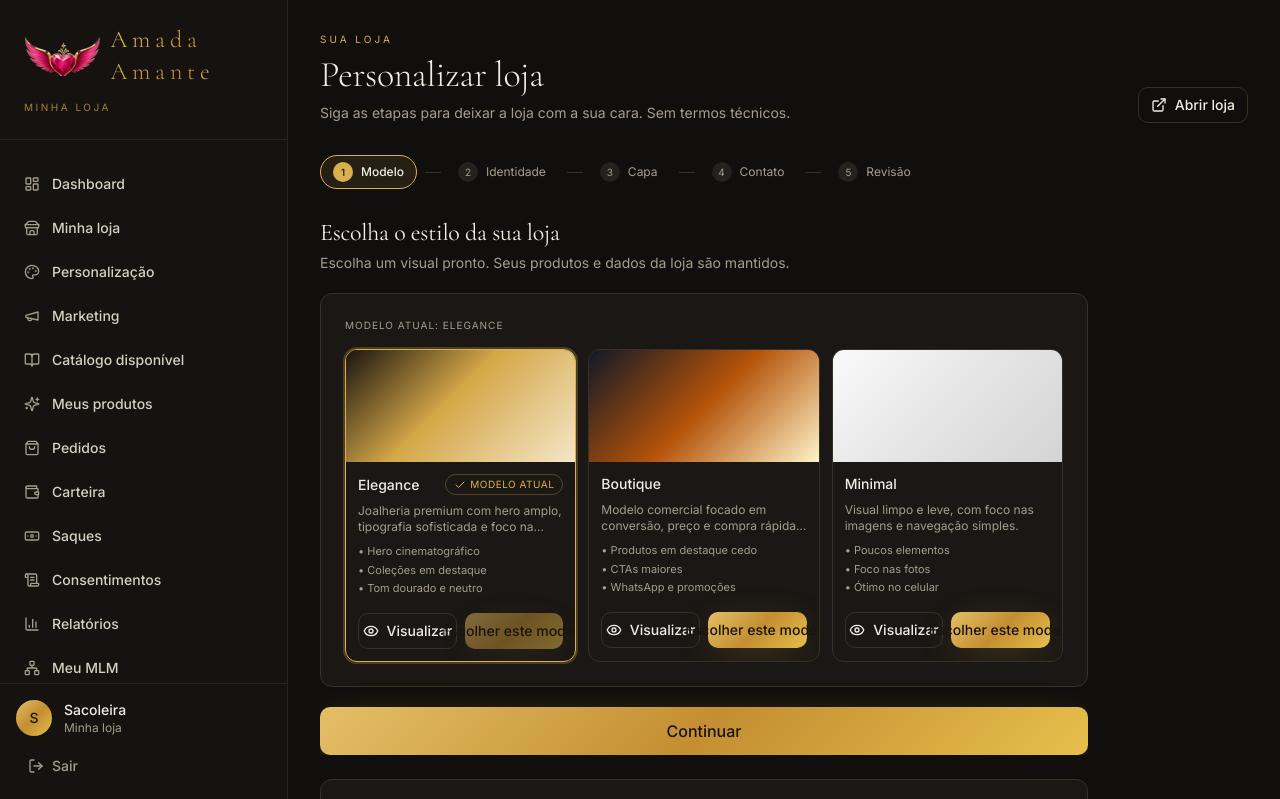
Scenario: customization wizard › edita WhatsApp e Instagram
Click the button with test id "customization-continue" at [704, 730], box [320,706,1088,754]
(page scrolled)
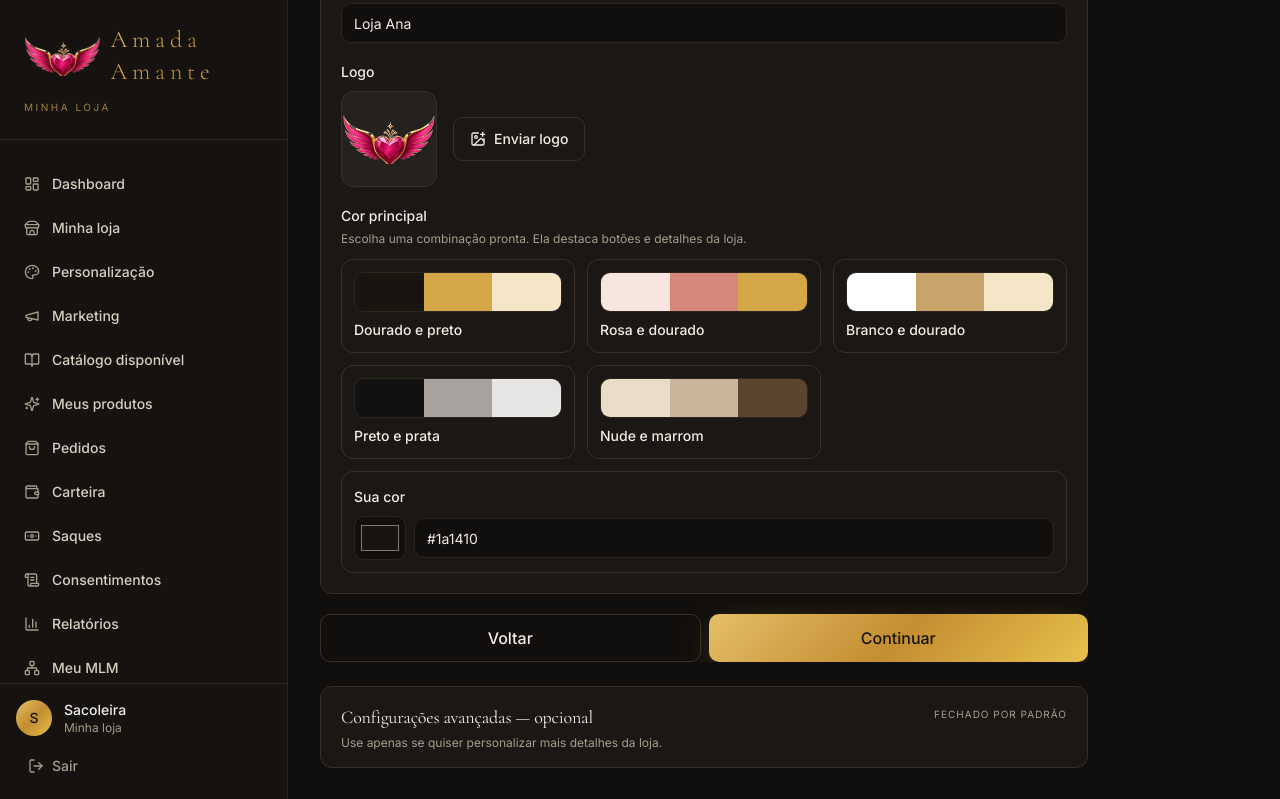
Click the button with test id "customization-continue" at [898, 638], box [708,614,1088,662]
(page scrolled)
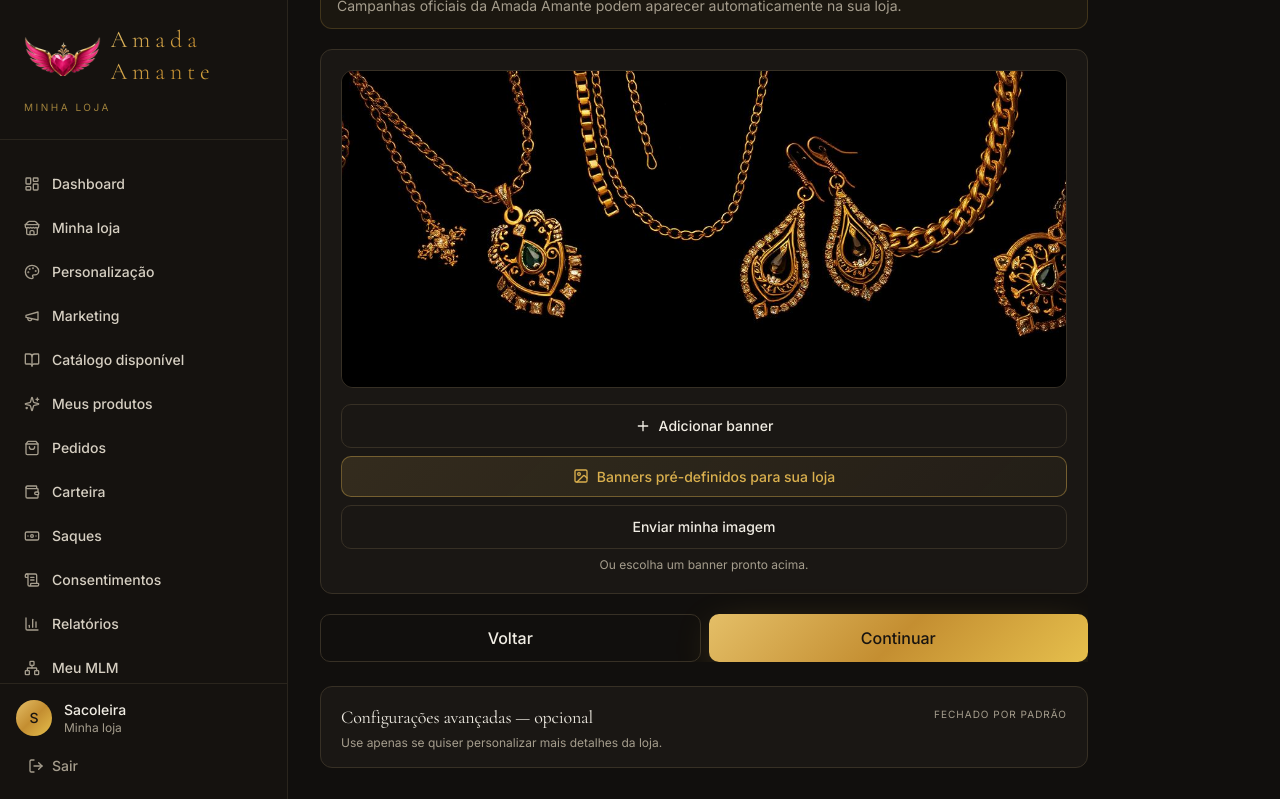
Click the button with test id "customization-continue" at [898, 638], box [708,614,1088,662]
(page scrolled)
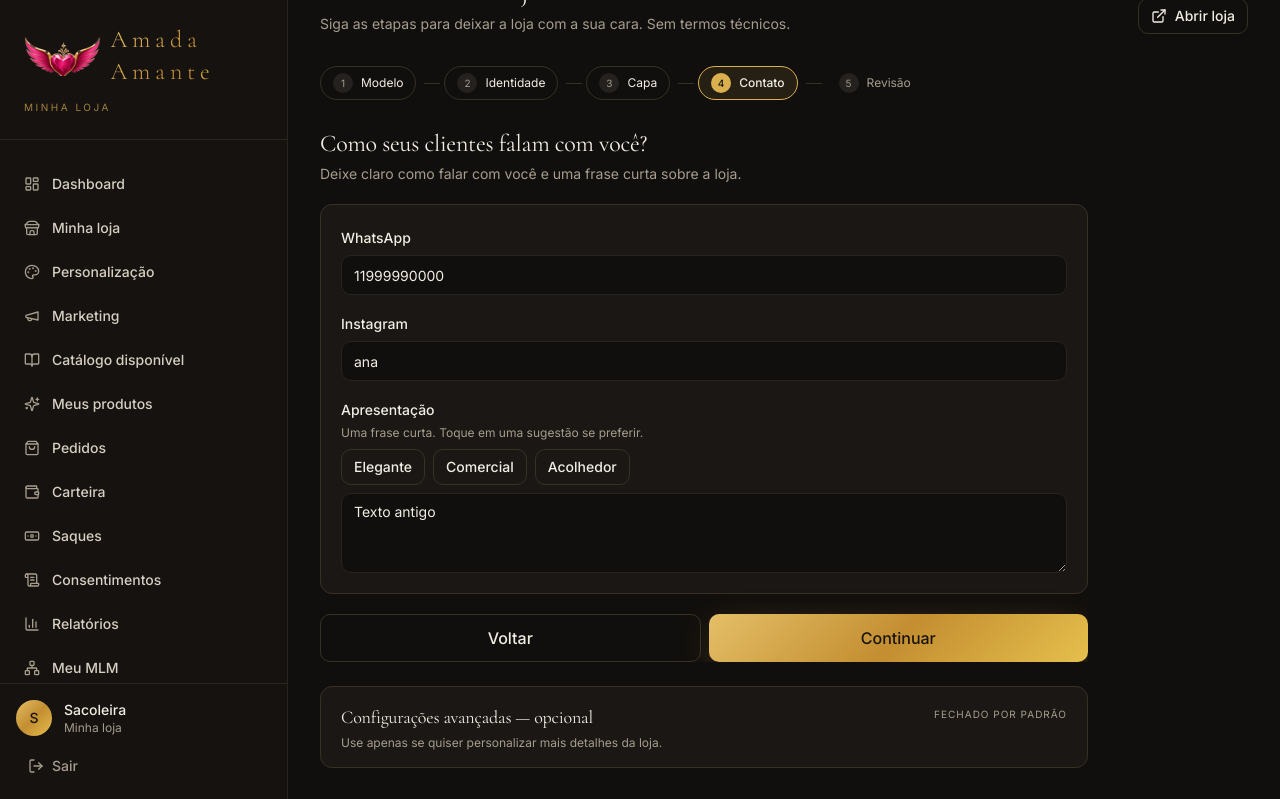
Replace the text in the field with test id "customization-whatsapp" with "11988887777" at [704, 275], box [341,255,1067,295]
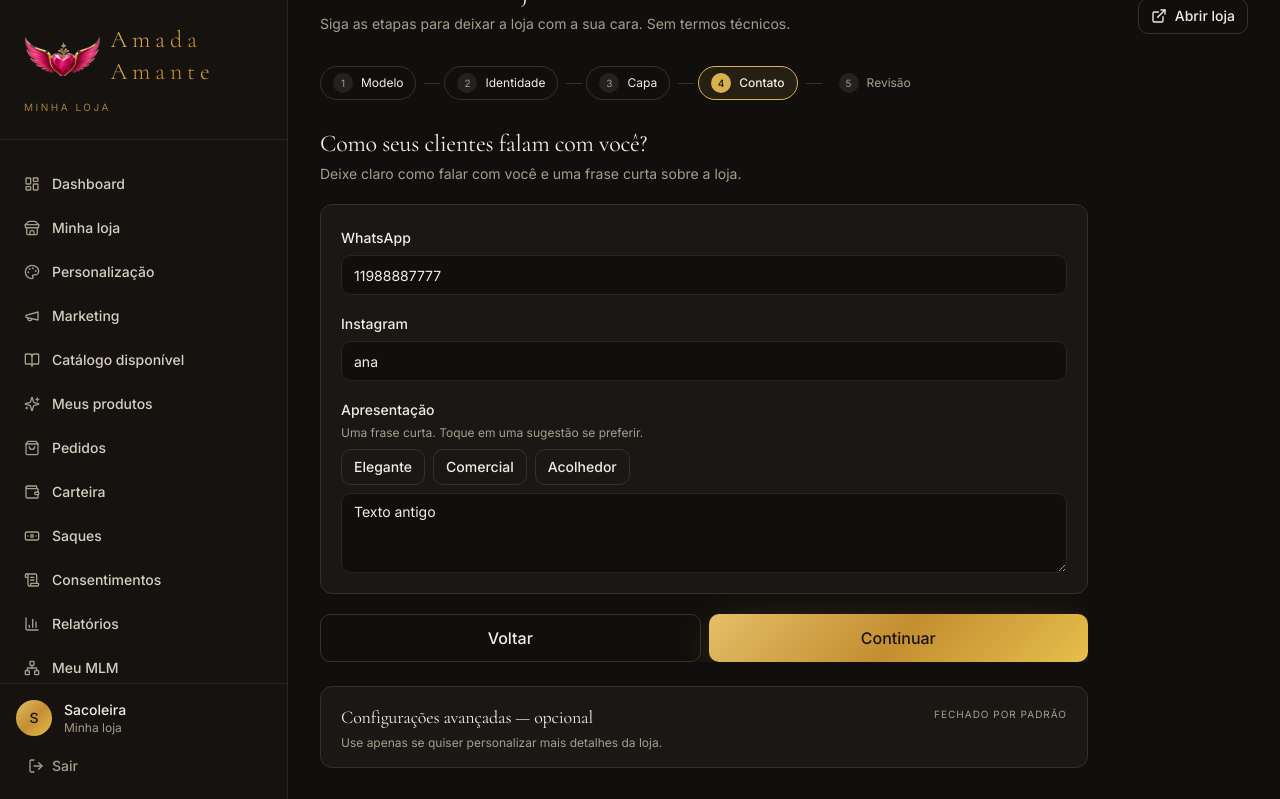
Replace the text in the field with test id "customization-instagram" with "@novaloja" at [704, 361], box [341,341,1067,381]
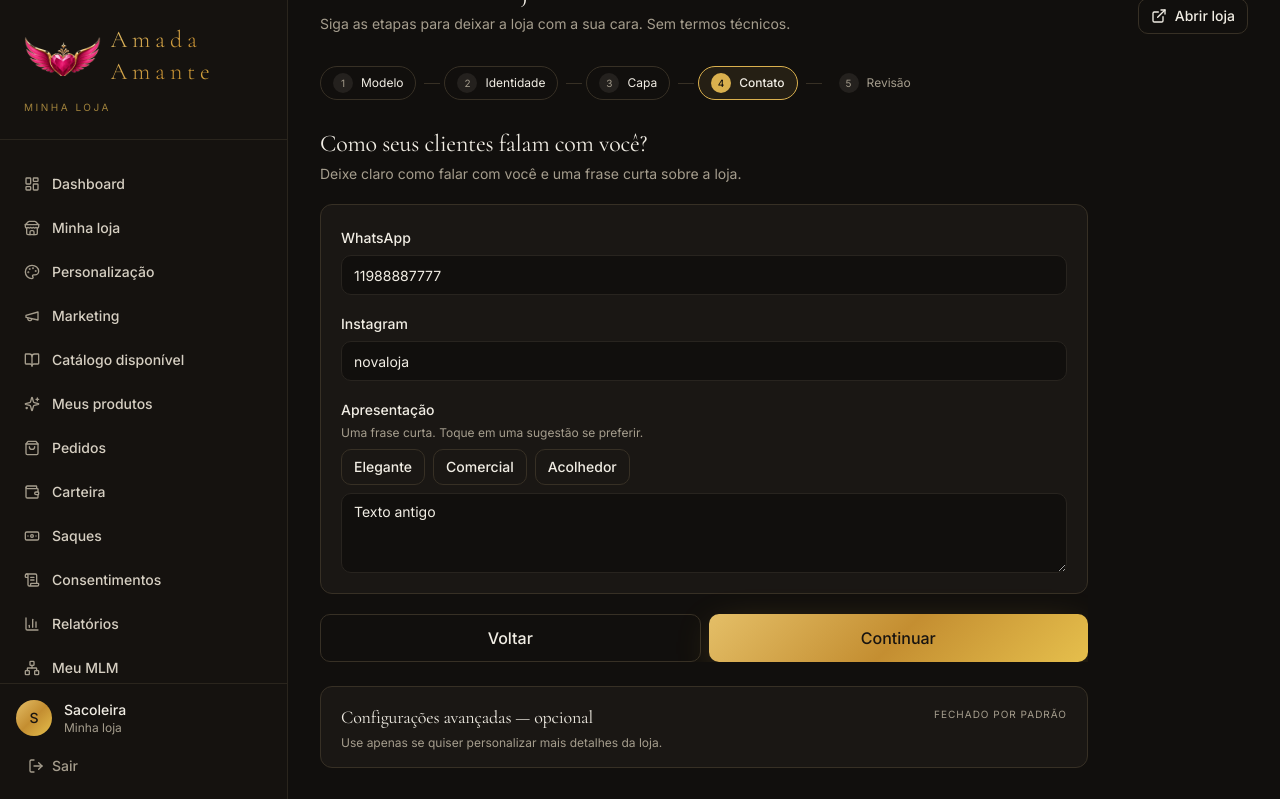
Expected: the field with test id "customization-instagram" holds "novaloja", [341,341,1067,381]
